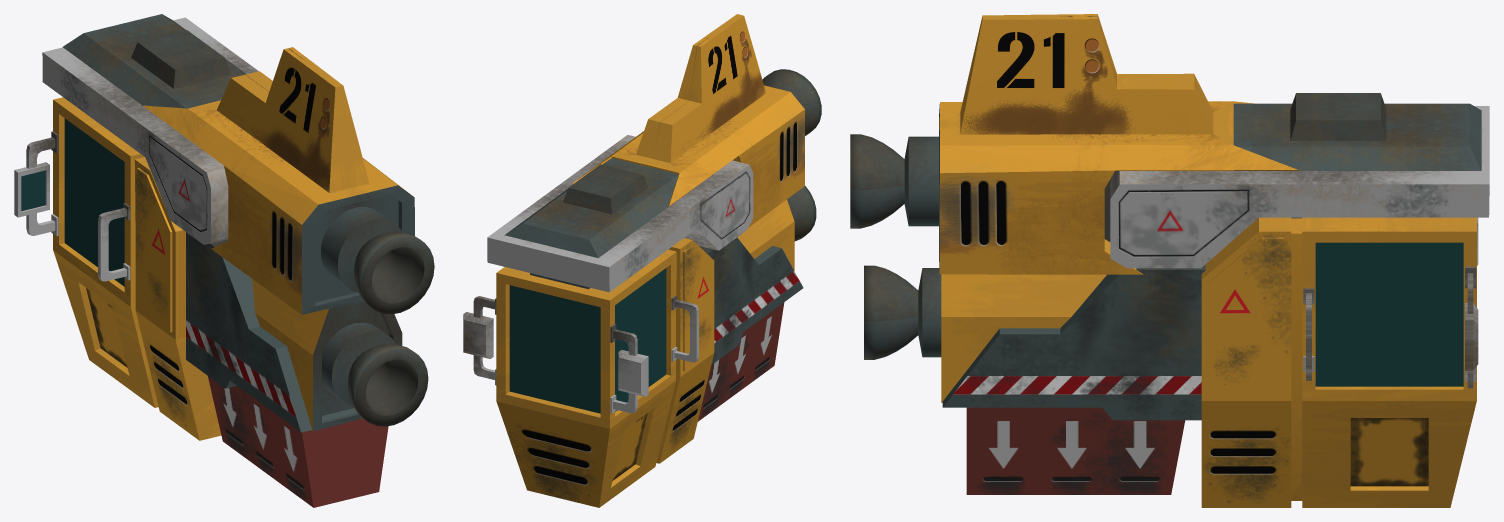
Rendered from car.glb.
The picture shows the model from 3 angles, left to right: view 1: azimuth 30°, elevation 25°; view 2: azimuth 150°, elevation 25°; view 3: azimuth 270°, elevation 25°; orthographic projection. The views are drawn at different scales.
Visible parts, largest first — view 1: Object_2; view 2: Object_2; view 3: Object_2.
Boxes of the visible parts, x1=… form: Object_2: x1=14, y1=14, x2=434, y2=507; Object_2: x1=463, y1=14, x2=821, y2=507; Object_2: x1=850, y1=14, x2=1489, y2=507.
Bounding box in the file's own units: 11.82 × 22.01 × 27.24.
Materials: 1 (1 with a texture image).
